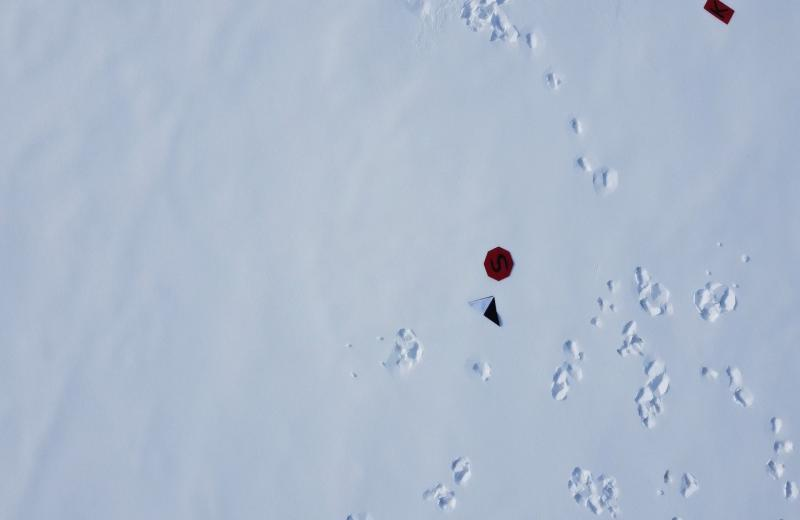Octagon: (482, 240, 516, 284)
Rectangle: (703, 0, 735, 27)
